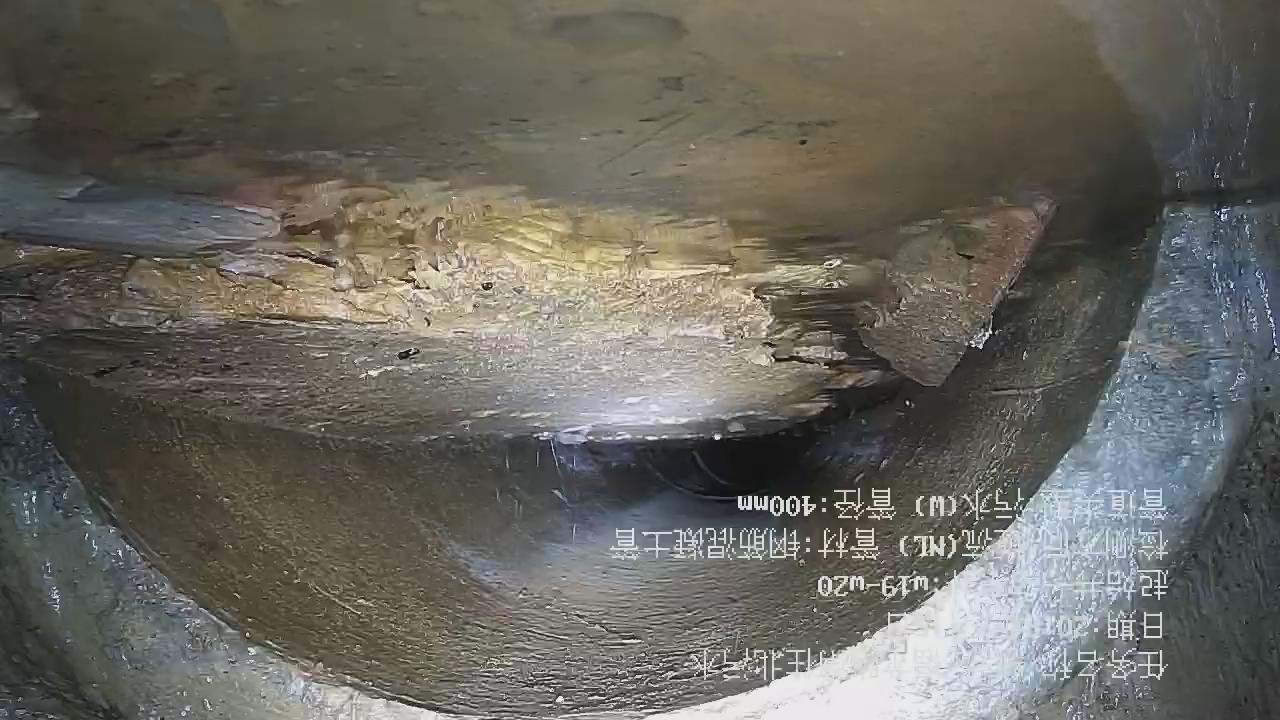JG: (1, 194, 1054, 445)
